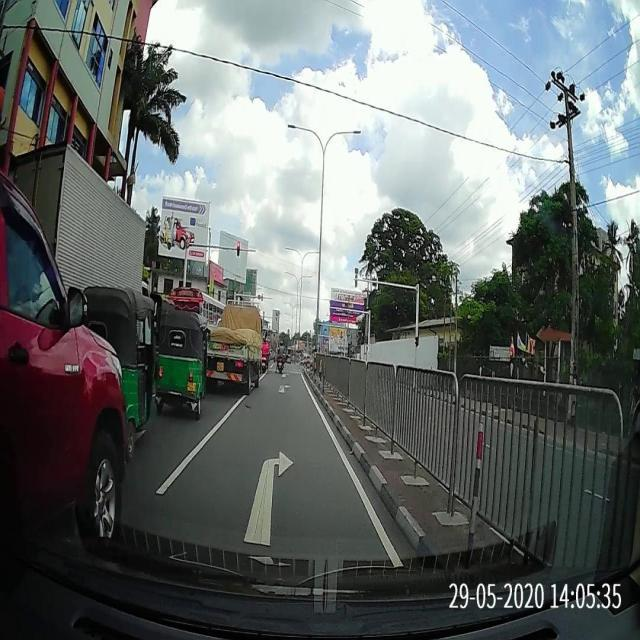Strelka vpravo: (243, 450, 294, 547)
